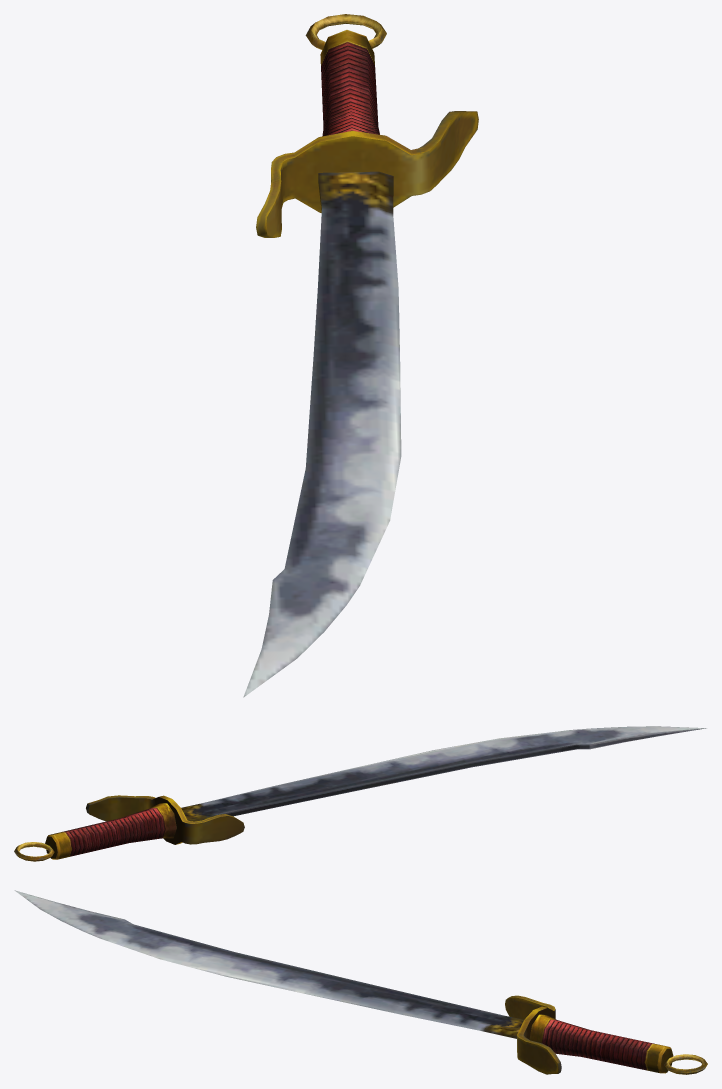
Rendered from weapon01.fbx.
3 renders of one model, top to bottom at view 1: azimuth 30°, elevation 25°; view 2: azimuth 150°, elevation 25°; view 3: azimuth 270°, elevation 25°, orthographic. The views are drawn at different scales.
Parts seen in each view (by area): view 1: weapon01; view 2: weapon01; view 3: weapon01.
Boxes of the visible parts, box(x1,y1,x2,y2) form: weapon01: box(243, 14, 478, 697); weapon01: box(14, 726, 706, 861); weapon01: box(14, 890, 707, 1074).
Size of the model in its own units: 92.63 by 9.62 by 136.
